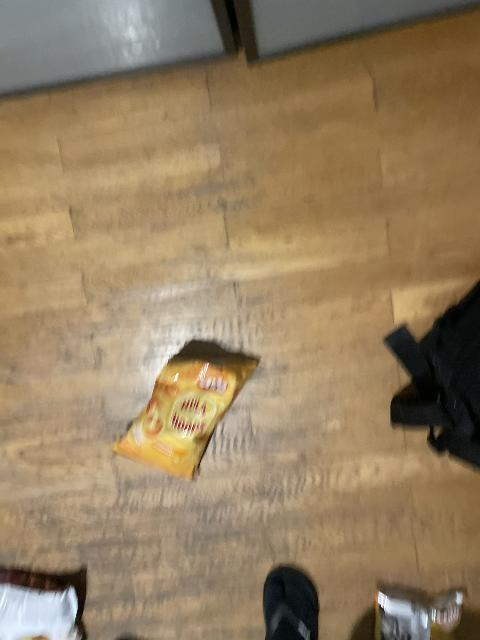Chio Cascaval 125g: (375, 582, 465, 639)
Chio Hula Hoops Cheese 70g: (110, 341, 262, 483)
